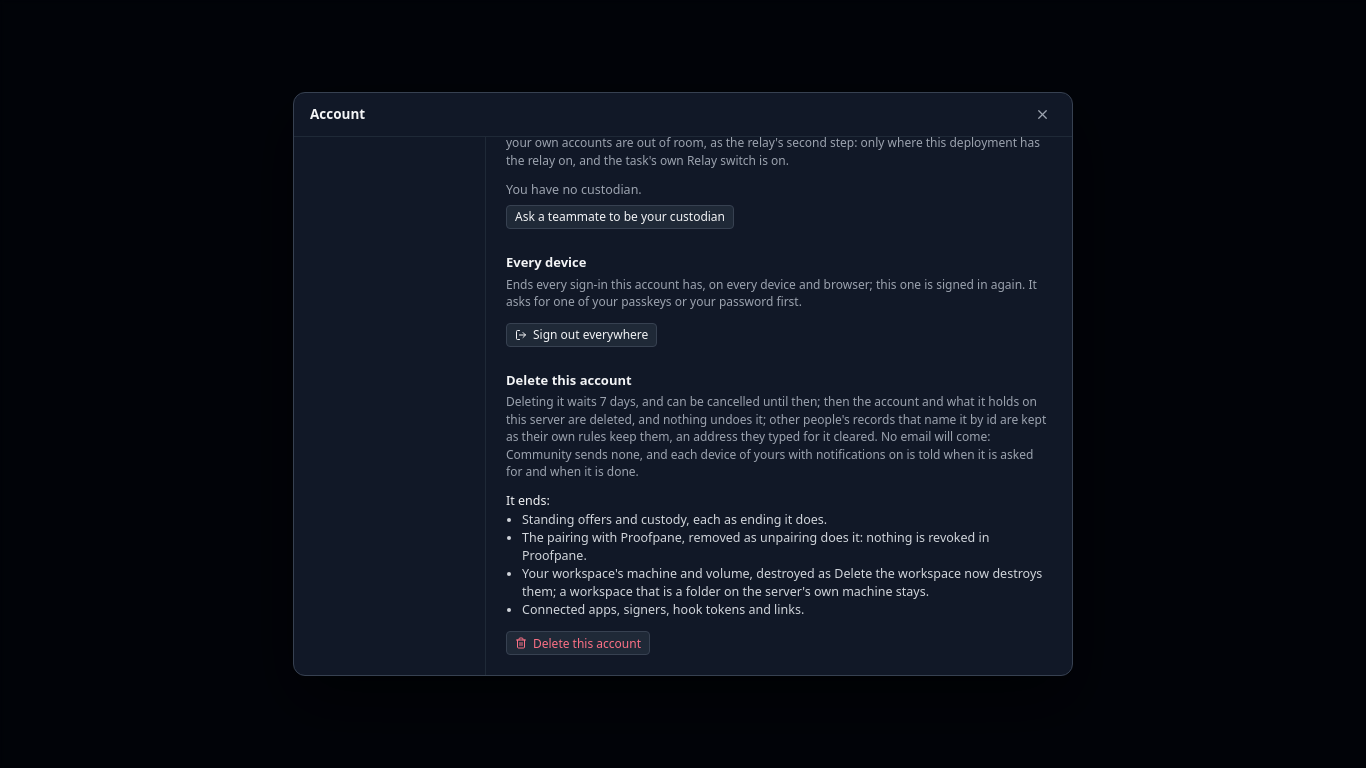
Scenario: deleting the account in the phone app, where a browser must confirm it › names the server's address as a link to Account's tab there, for an account with a passkey
(page scrolled)
Click the button "Delete this account" at (578, 643), box [506,631,650,655]
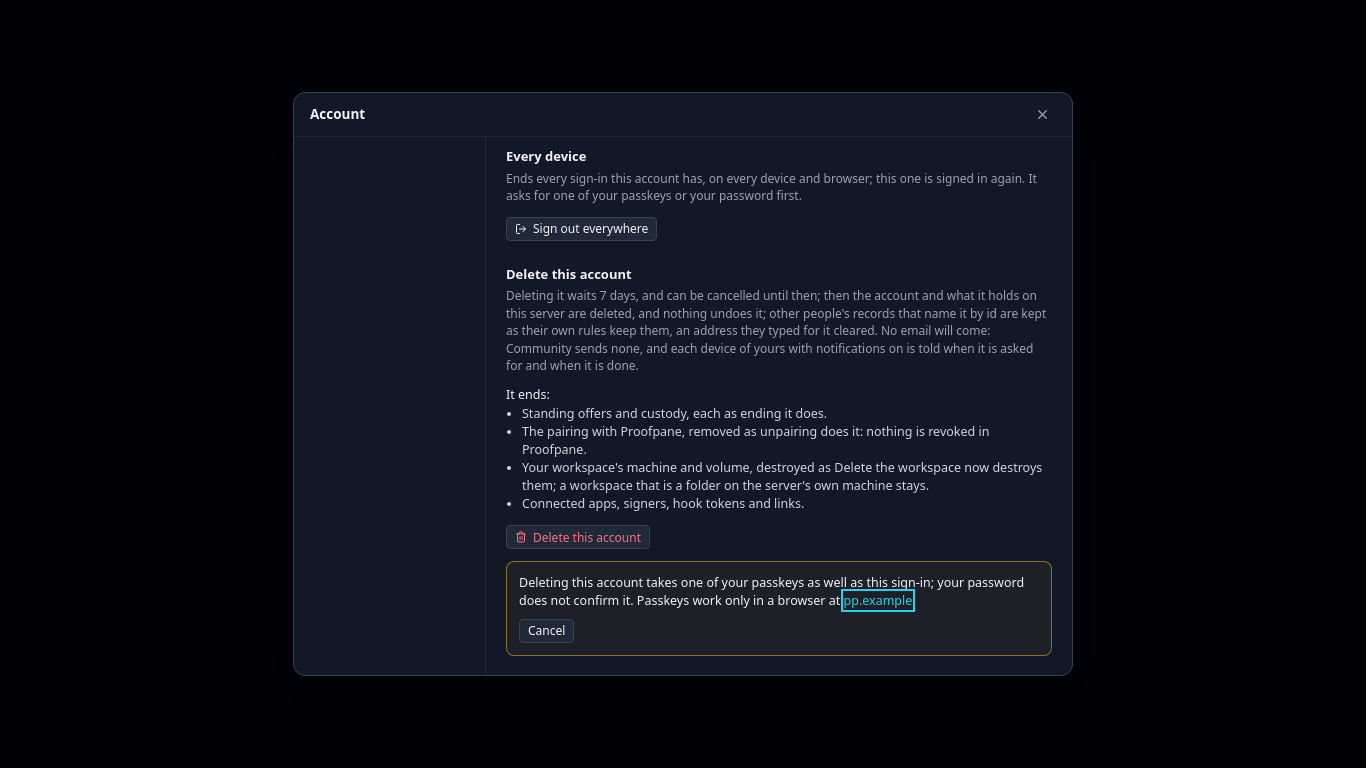
Result: the element "Deleting this account" shows "Passkeys work only in a browser at pp.example." at [506,561,1052,656]
